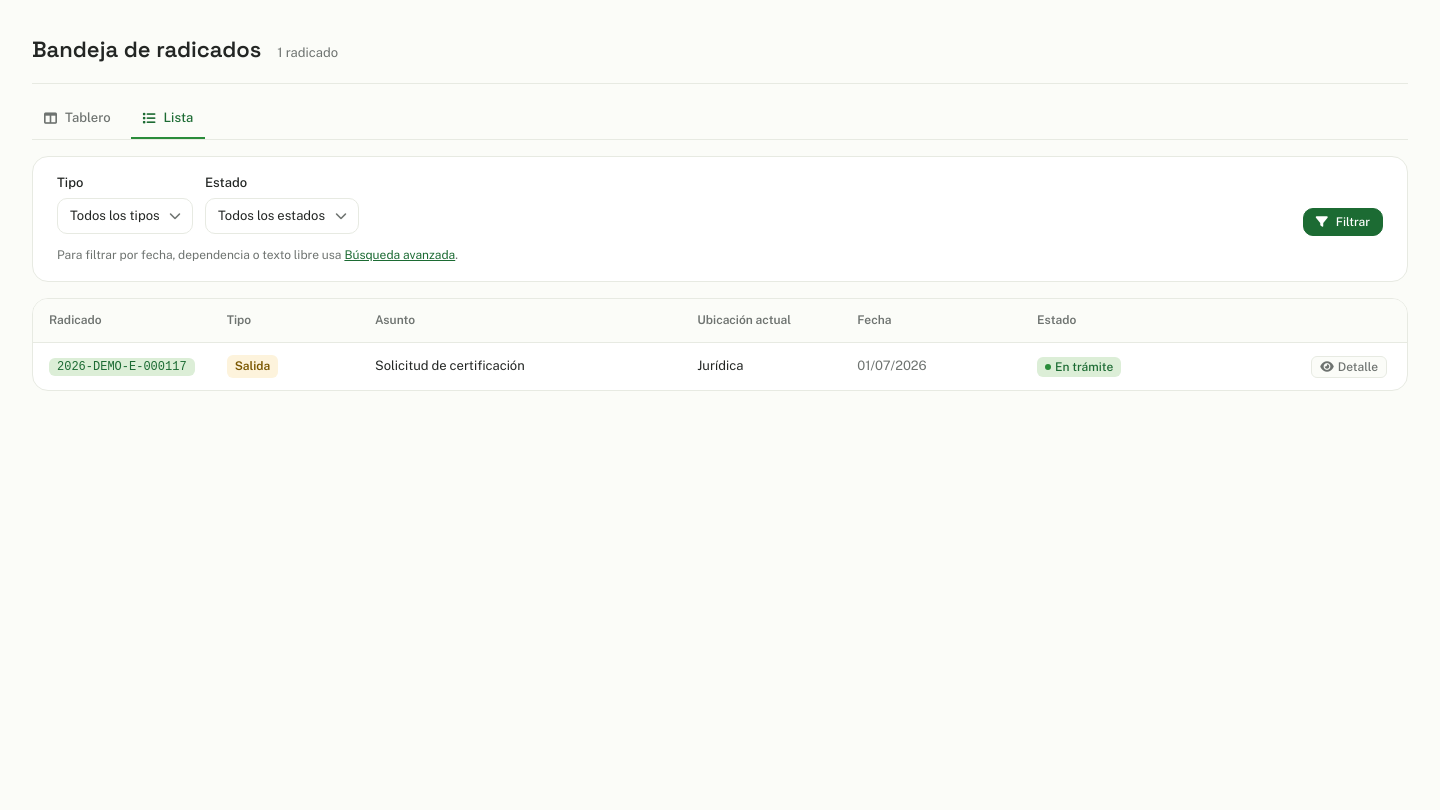
/bandeja — detalle › Salida sin destino ni pasos: dice «dependencia productora», no una ubicación a secas
Expected: the text "2026-DEMO-E-000117" is shown, [49,358,195,376]
Click the button "Detalle".
click(1349, 367)  # box [1311,356,1387,378]
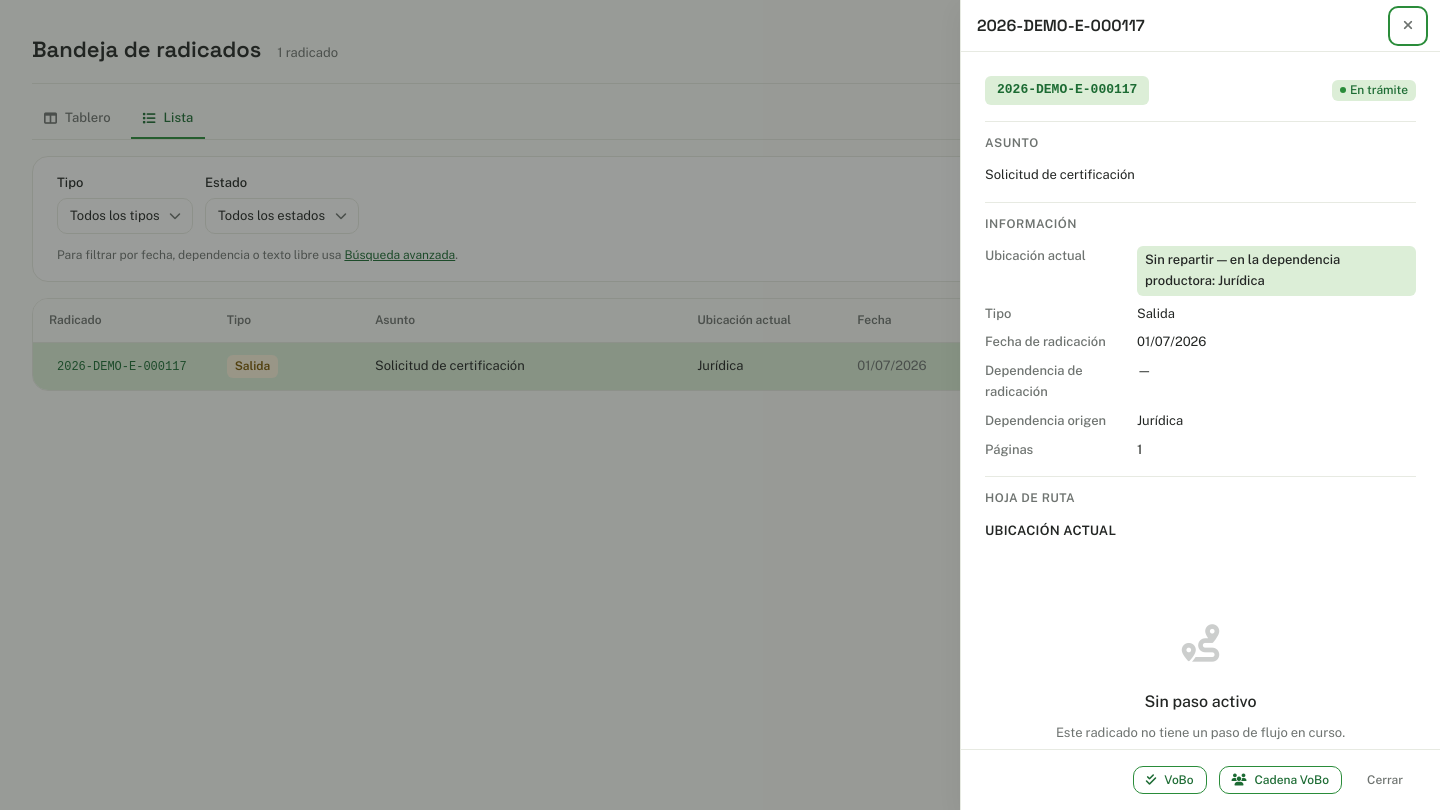
Now the element with class "doc-detail" is shown, box [985,76,1416,749]
Now the text with test id "detalle-ubicacion-actual" reads "Sin repartir — en la dependencia productora: Jurídica", box [1145,252,1340,288]
